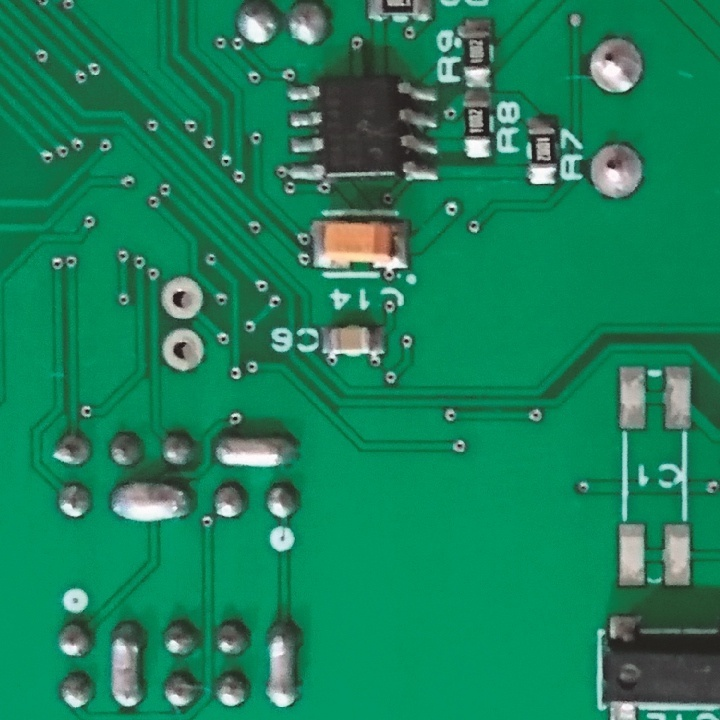F: (583, 33, 649, 97), (584, 139, 646, 206), (158, 323, 208, 376), (158, 274, 205, 321)
P: (262, 618, 307, 712), (106, 480, 195, 527), (107, 619, 149, 704), (212, 433, 298, 473)
